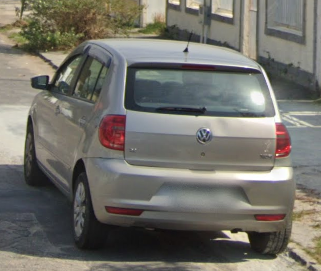car: (24, 37, 294, 257)
